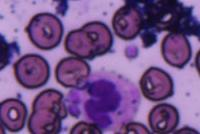N: (66, 70, 140, 133)
